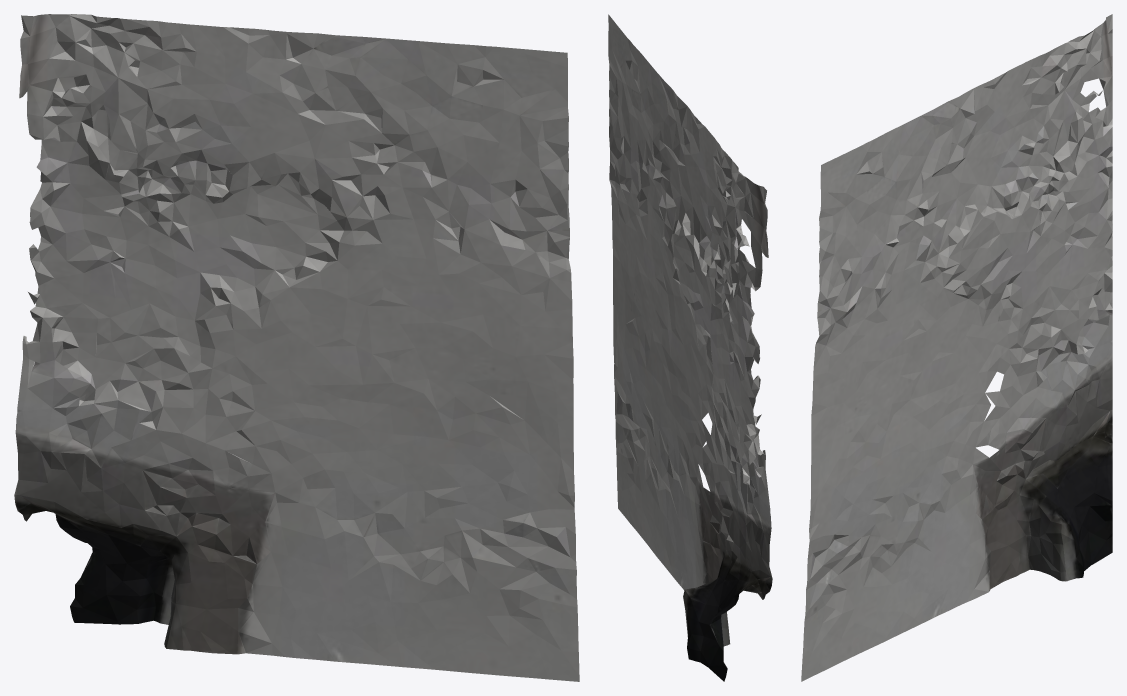
3 renders of one model, left to right at view 1: azimuth 30°, elevation 25°; view 2: azimuth 150°, elevation 25°; view 3: azimuth 270°, elevation 25°, orthographic. The views are drawn at different scales.
Size of the model in its own units: 1.07 by 1.67 by 0.915.
Materials: 2 (2 with a texture image).
